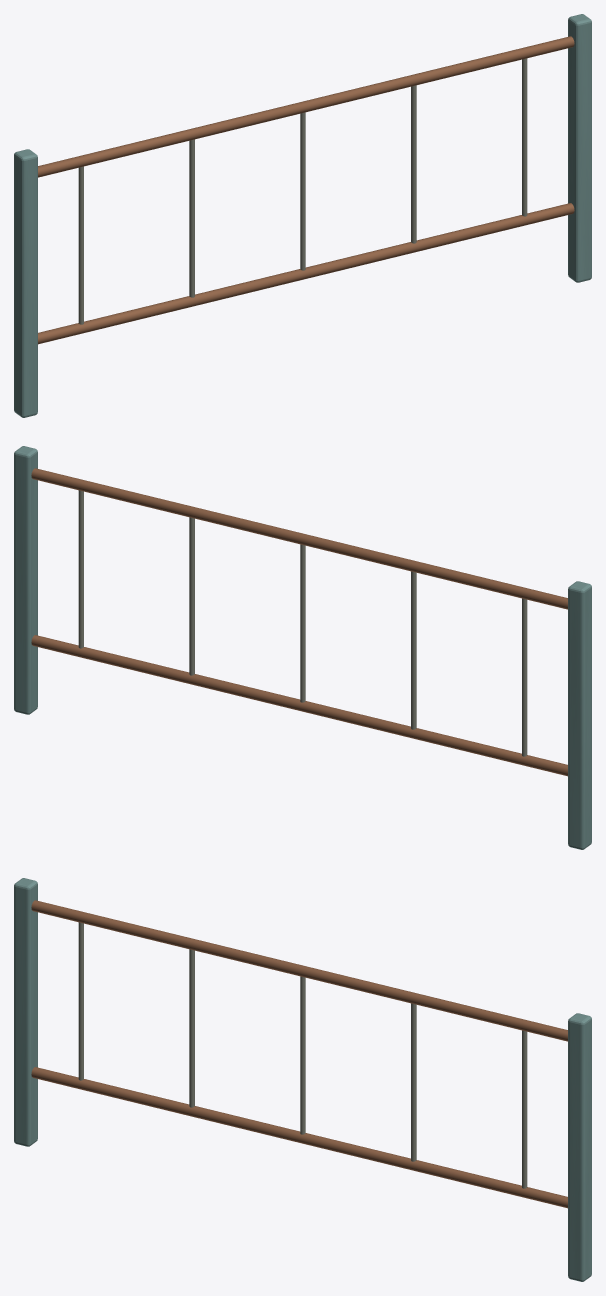
File: Fence_4m.glb
The picture shows the model from 3 angles, top to bottom: view 1: azimuth 30°, elevation 25°; view 2: azimuth 150°, elevation 25°; view 3: azimuth 330°, elevation 25°; orthographic projection.
Parts seen in each view (by area): view 1: Fence_4m; view 2: Fence_4m; view 3: Fence_4m.
Boxes of the visible parts, x1,y1,x2,y2 form: Fence_4m: (14,14,591,417); Fence_4m: (14,446,591,849); Fence_4m: (14,878,591,1281).
Bounding box in the file's own units: 4.12 × 1.8 × 0.12.
3 materials, 2 textured.
